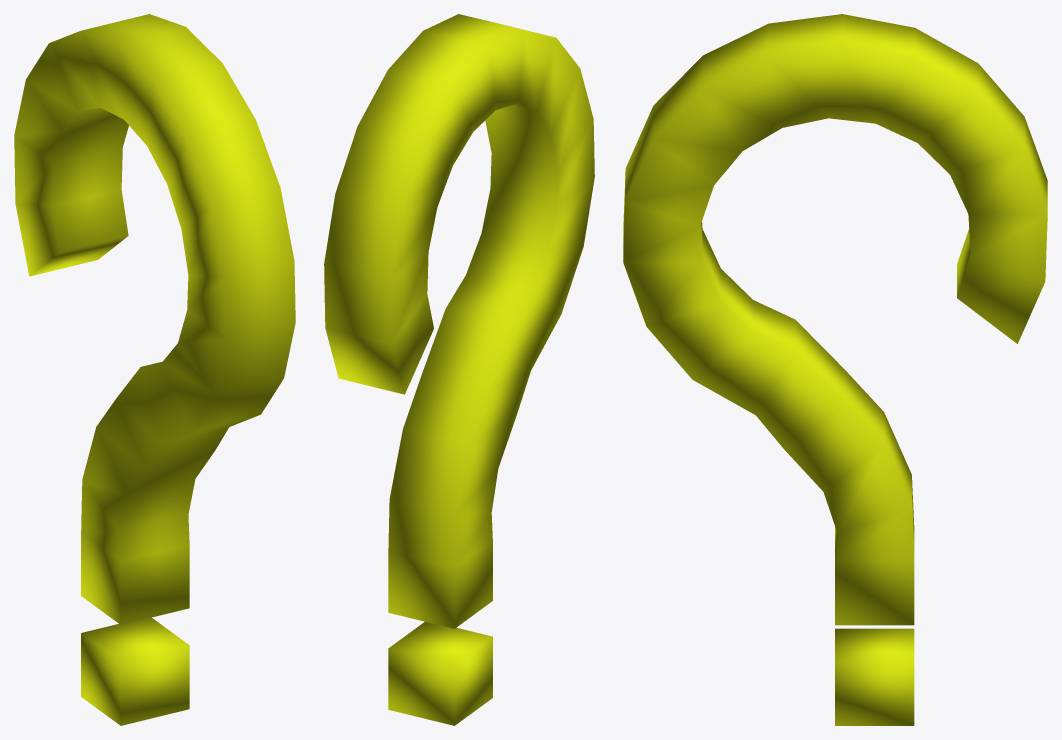
The model's file is Quest Mark.fbx.
3 views of the same model, side by side, from view 1: azimuth 30°, elevation 25°; view 2: azimuth 150°, elevation 25°; view 3: azimuth 270°, elevation 25° (orthographic). The views are drawn at different scales.
Visible parts, largest first — view 1: Cube; view 2: Cube; view 3: Cube.
Part boxes in pixels (x1,y1,x2,y2): Cube: (14, 14, 295, 725); Cube: (324, 14, 594, 725); Cube: (623, 14, 1047, 725).
Bounding box in the file's own units: 65.18 × 615 × 349.
